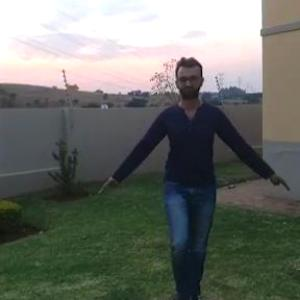land: (113, 58, 277, 280)
